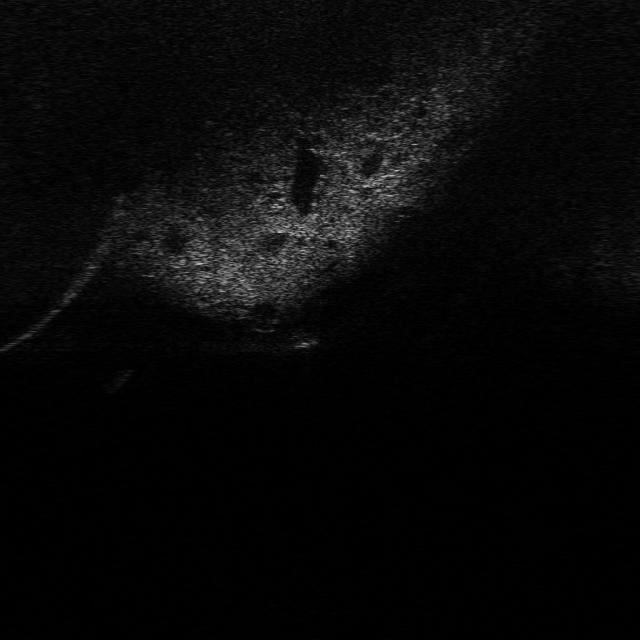cube: (284, 328, 320, 352)
cylinder: (100, 367, 134, 394)
